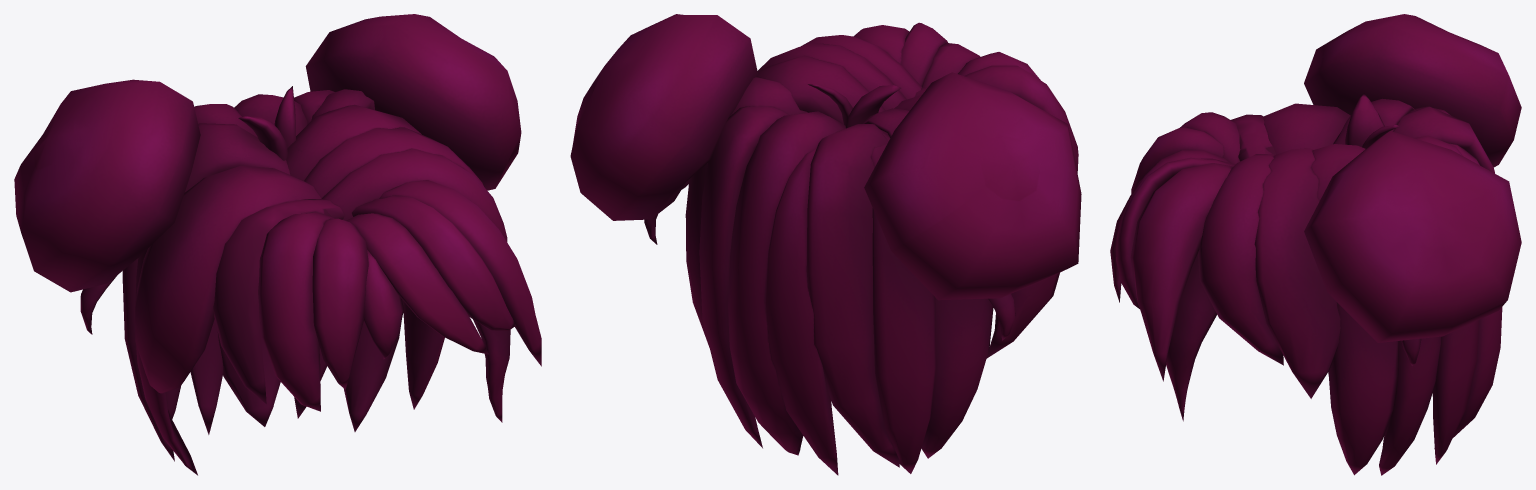
File: Hair2.glb
3 views of the same model, side by side, from view 1: azimuth 30°, elevation 25°; view 2: azimuth 150°, elevation 25°; view 3: azimuth 270°, elevation 25° (orthographic). The views are drawn at different scales.
Visible parts, largest first — view 1: Stylized_Twin_Bun_Hair_Anime_Girl; view 2: Stylized_Twin_Bun_Hair_Anime_Girl; view 3: Stylized_Twin_Bun_Hair_Anime_Girl.
Part boxes in pixels (bbox=[...]): Stylized_Twin_Bun_Hair_Anime_Girl: bbox=[14, 14, 541, 475]; Stylized_Twin_Bun_Hair_Anime_Girl: bbox=[570, 14, 1081, 475]; Stylized_Twin_Bun_Hair_Anime_Girl: bbox=[1110, 14, 1521, 475].
Bounding box in the file's own units: 0.3494 × 0.2688 × 0.2728.
Materials: 1 (1 with a texture image).
